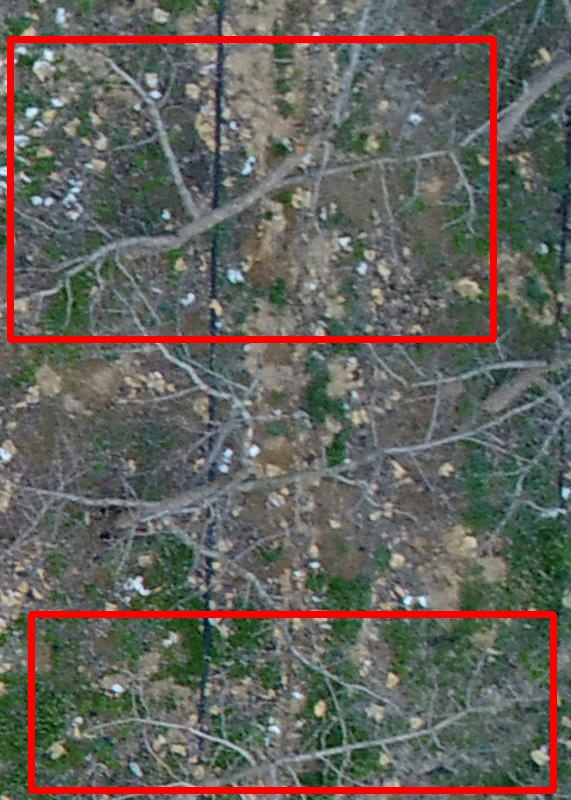apple: (10, 39, 493, 339), (31, 614, 553, 790)
